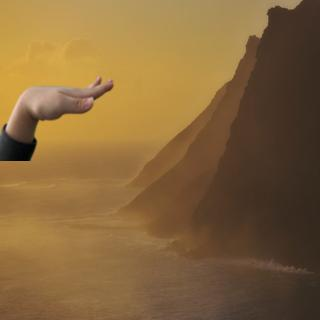Wait: (13, 69, 115, 122)
